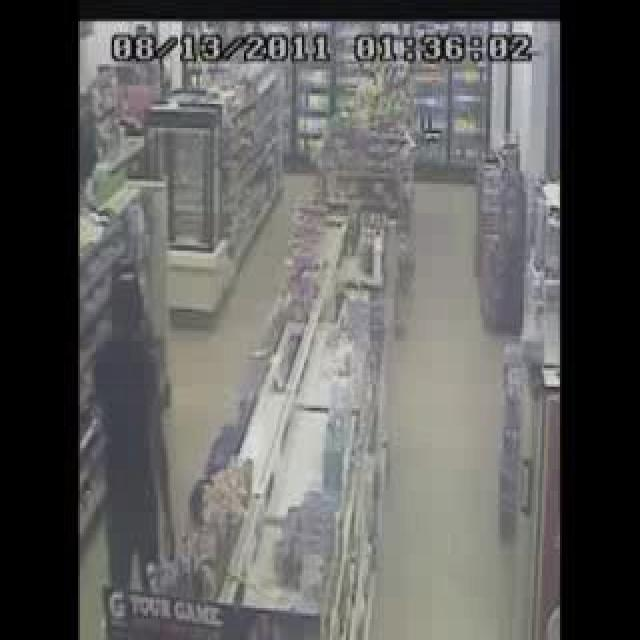thief: (96, 243, 172, 379)
